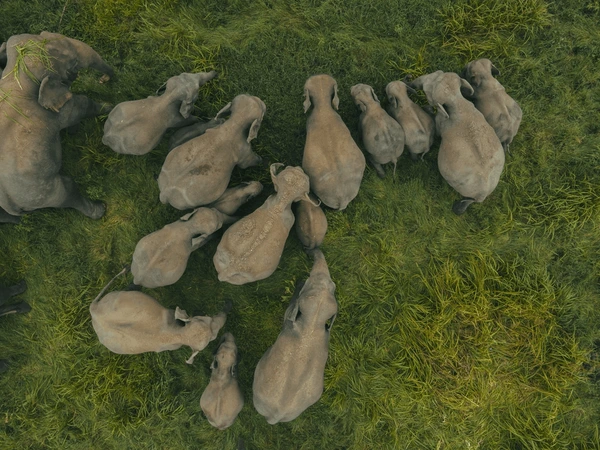Adult Elephant: (0, 37, 129, 223), (251, 245, 345, 426), (406, 55, 508, 203), (212, 157, 318, 297), (155, 95, 270, 201), (299, 64, 372, 214), (81, 290, 223, 362)
Baby Elephant: (97, 63, 215, 158), (122, 204, 226, 285), (461, 45, 534, 142), (344, 81, 403, 171), (196, 332, 247, 431), (382, 69, 432, 157), (210, 167, 266, 216), (287, 190, 336, 242)
